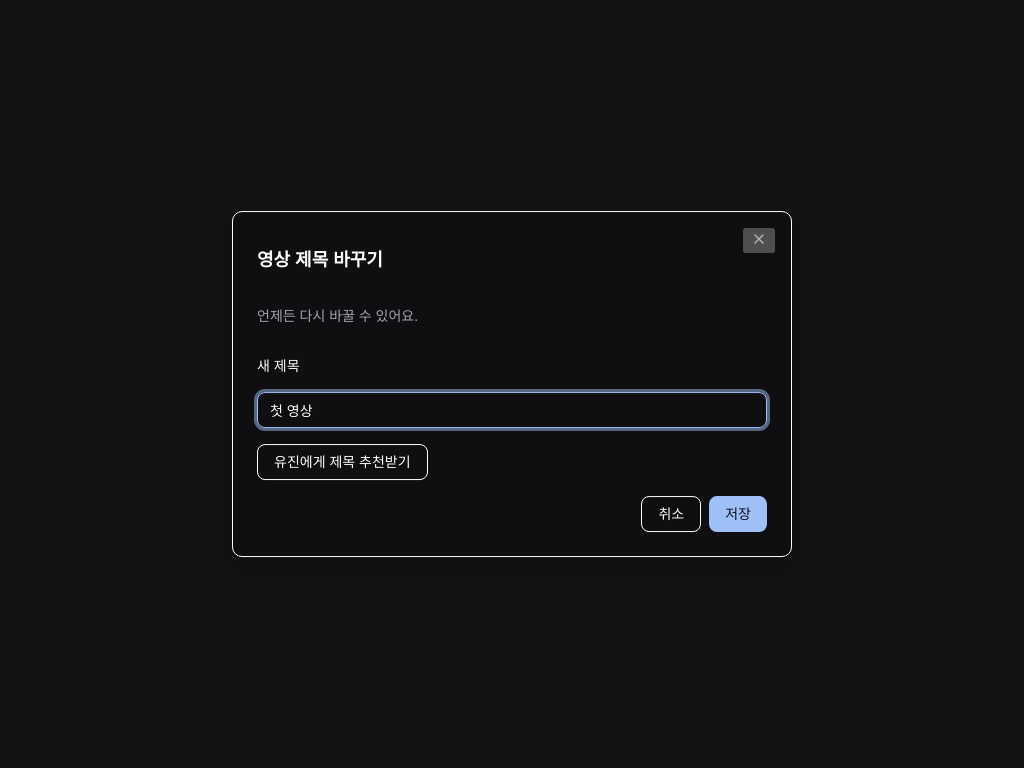
Scenario: 영상 제목 바꾸기 › 편집을 아직 한 번도 열지 않았으면 무엇을 먼저 해야 하는지 말한다
Click the button "유진에게 제목 추천받기".
click(342, 462)  # box [257,444,428,480]
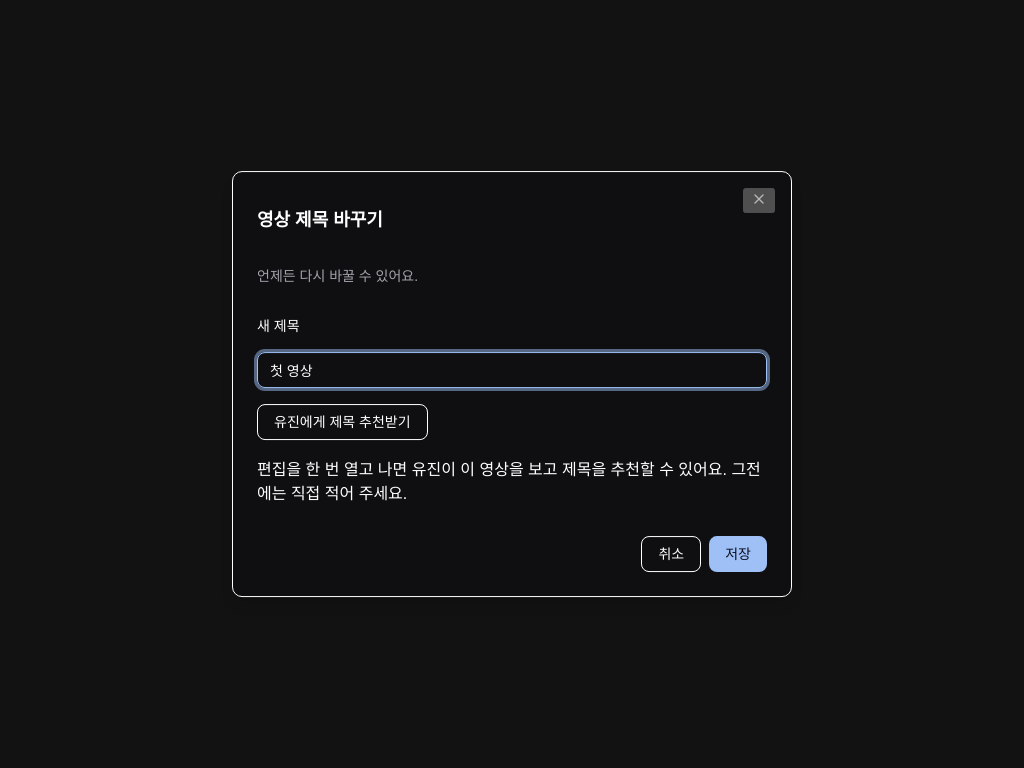
Expected: the message shows "편집을 한 번 열고 나면", [257,461,761,502]
